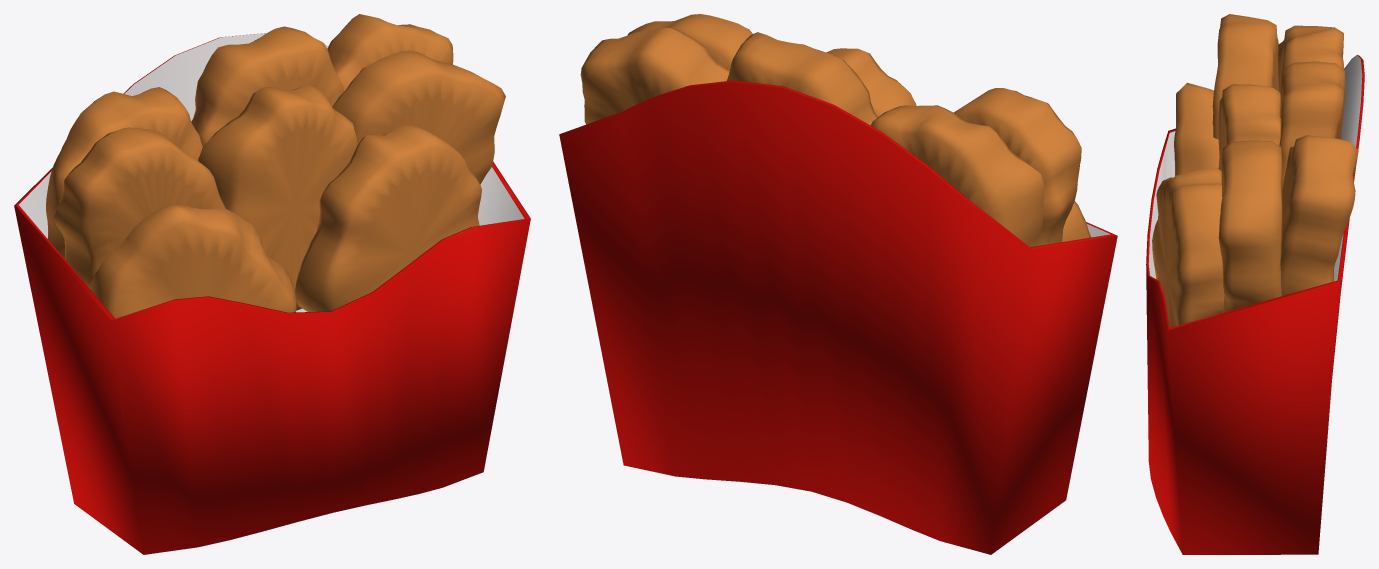
Rendered from ChickeNuggets.fbx.
3 renders of one model, left to right at view 1: azimuth 30°, elevation 25°; view 2: azimuth 150°, elevation 25°; view 3: azimuth 270°, elevation 25°, orthographic. The views are drawn at different scales.
Visible parts, largest first — view 1: Carton.001, Nuggets.002, Nuggets.001, Nuggets.003, Nuggets, Nuggets.007, Nuggets.005, Nuggets.004, Nuggets.006; view 2: Carton.001, Nuggets.004, Nuggets.006, Nuggets, Nuggets.005, Nuggets.007, Nuggets.001, Nuggets.003; view 3: Carton.001, Nuggets.007, Nuggets.006, Nuggets.002, Nuggets.005, Nuggets, Nuggets.001, Nuggets.003, Nuggets.004.
Part boxes in pixels (box(x1,y1,x2,y2)): Carton.001: box(14, 33, 530, 554); Nuggets.002: box(295, 124, 481, 311); Nuggets.001: box(198, 85, 357, 310); Nuggets.003: box(91, 204, 296, 318); Nuggets: box(53, 127, 225, 289); Nuggets.007: box(332, 50, 505, 184); Nuggets.005: box(191, 26, 343, 146); Nuggets.004: box(46, 87, 202, 259); Nuggets.006: box(327, 14, 453, 91); Carton.001: box(559, 80, 1117, 554); Nuggets.004: box(871, 105, 1044, 247); Nuggets.006: box(580, 28, 729, 124); Nuggets: box(954, 88, 1081, 245); Nuggets.005: box(726, 32, 877, 125); Nuggets.007: box(627, 14, 752, 70); Nuggets.001: box(826, 48, 916, 116); Nuggets.003: box(1062, 201, 1091, 241); Carton.001: box(1146, 55, 1364, 554); Nuggets.007: box(1218, 140, 1282, 312); Nuggets.006: box(1280, 135, 1358, 295); Nuggets.002: box(1152, 167, 1224, 327); Nuggets.005: box(1279, 61, 1345, 188); Nuggets: box(1212, 14, 1278, 139); Nuggets.001: box(1218, 84, 1280, 170); Nuggets.003: box(1174, 82, 1219, 175); Nuggets.004: box(1278, 25, 1343, 91).
Bounding box in the file's own units: 22.89 × 20.97 × 10.15.
Materials: 3 (3 with a texture image).
